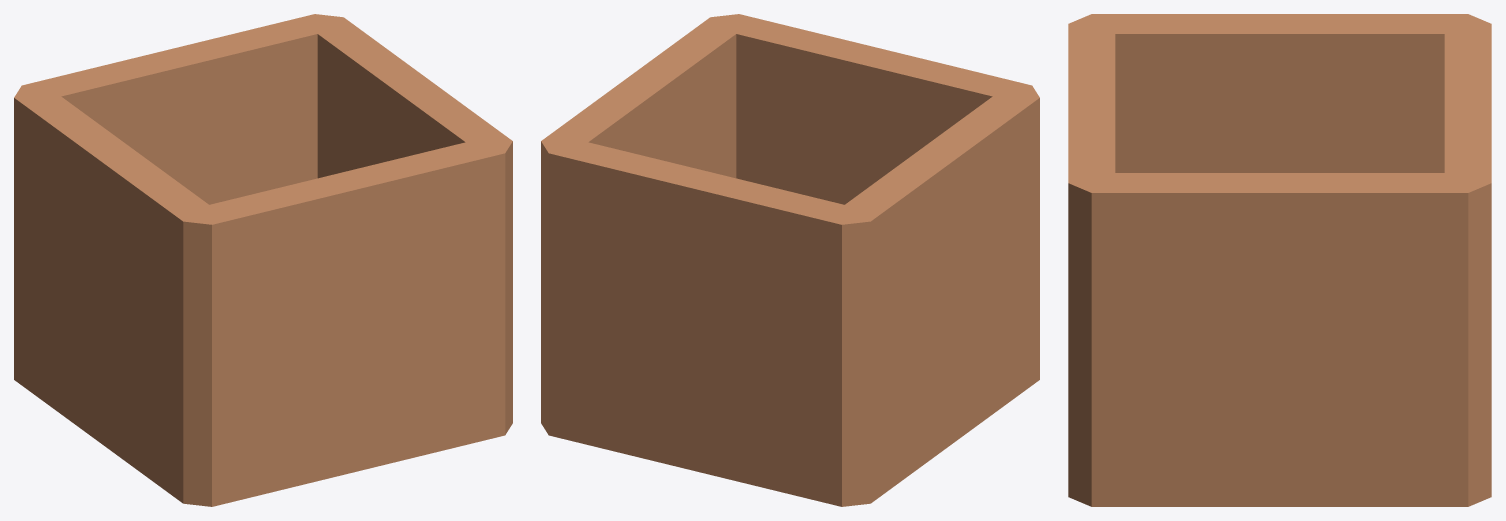
The picture shows the model from 3 angles, left to right: view 1: azimuth 30°, elevation 25°; view 2: azimuth 150°, elevation 25°; view 3: azimuth 270°, elevation 25°; orthographic projection. The views are drawn at different scales.
Parts seen in each view (by area): view 1: mergedBlocks; view 2: mergedBlocks; view 3: mergedBlocks.
Part boxes in pixels (<box>): mergedBlocks: <box>14,14,512,506</box>; mergedBlocks: <box>541,14,1039,506</box>; mergedBlocks: <box>1068,14,1491,506</box>.
Bounding box in the file's own units: 11.25 × 9.2 × 11.25.
